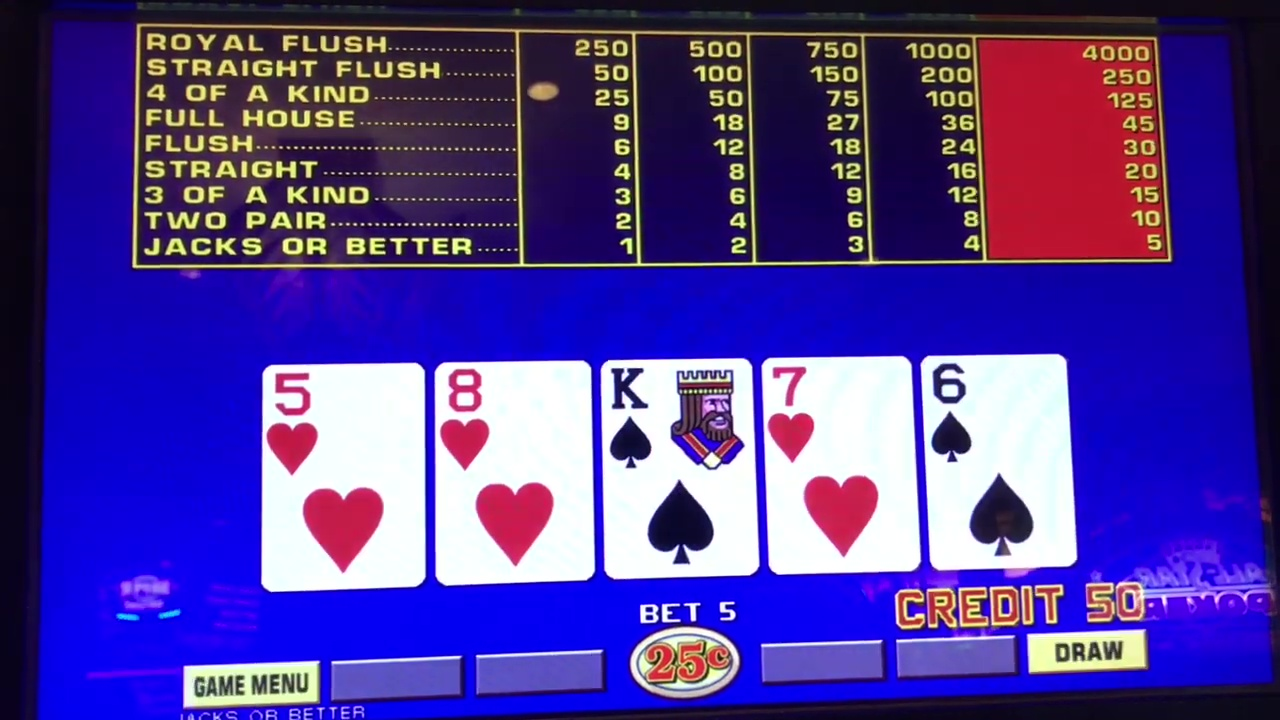H5: (266, 368, 421, 476)
H7: (769, 360, 907, 465)
H8: (440, 363, 586, 470)
S6: (933, 357, 1065, 461)
SK: (602, 363, 751, 466)
